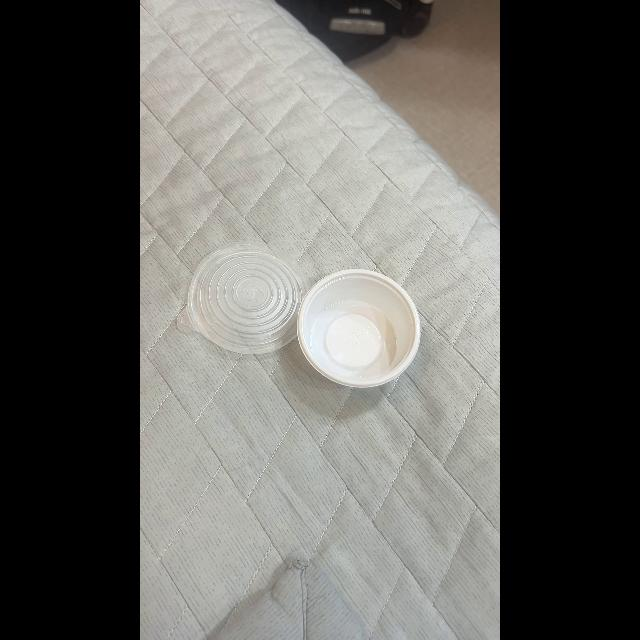clean: (296, 268, 424, 388), (191, 245, 303, 352)
